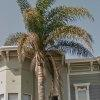Tree: (10, 2, 78, 84)
